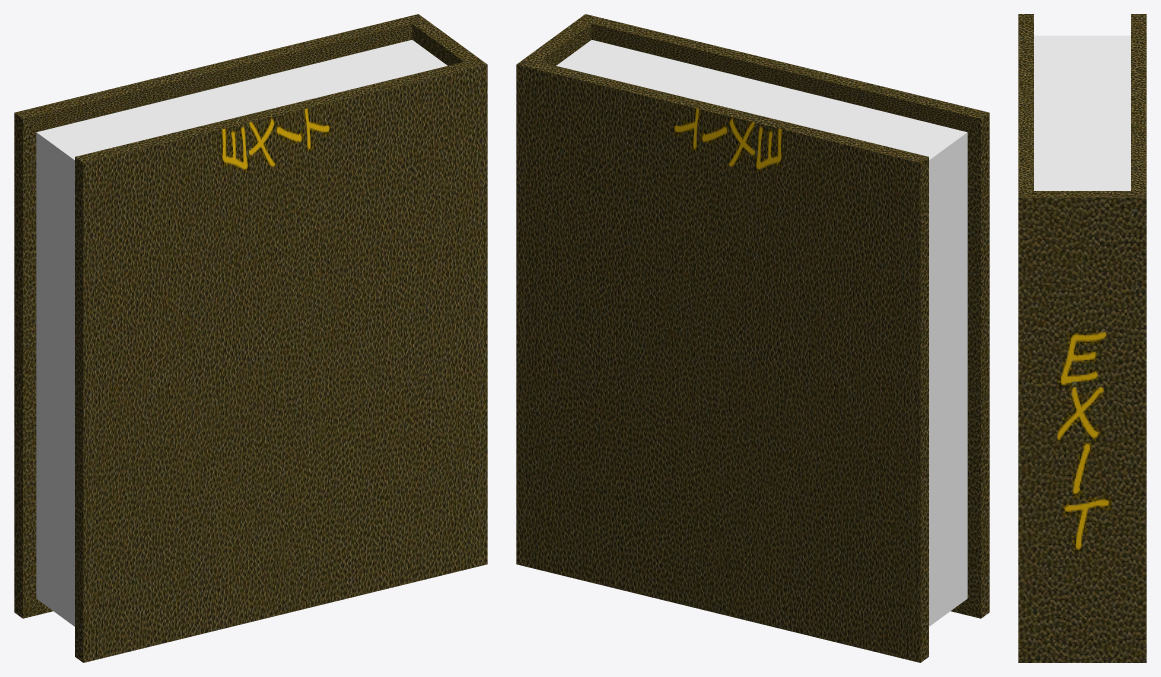
File: BookExit.obj
The picture shows the model from 3 angles, left to right: view 1: azimuth 30°, elevation 25°; view 2: azimuth 150°, elevation 25°; view 3: azimuth 270°, elevation 25°; orthographic projection. The views are drawn at different scales.
Parts seen in each view (by area): view 1: book.057; view 2: book.057; view 3: book.057.
Part boxes in pixels (box(x1,y1,x2,y2)): book.057: box(14, 14, 487, 662); book.057: box(516, 14, 989, 662); book.057: box(1018, 14, 1146, 662).
Size of the model in its own units: 0.2094 by 0.2476 by 0.0619.
